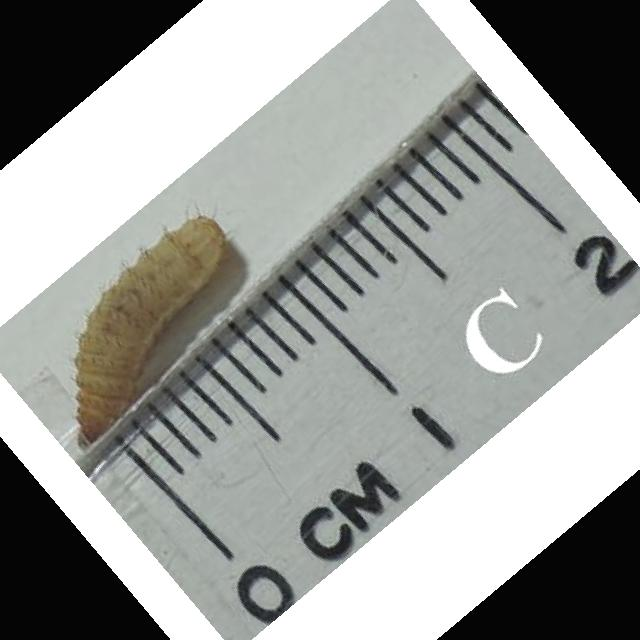Maggot: (71, 210, 229, 443)
